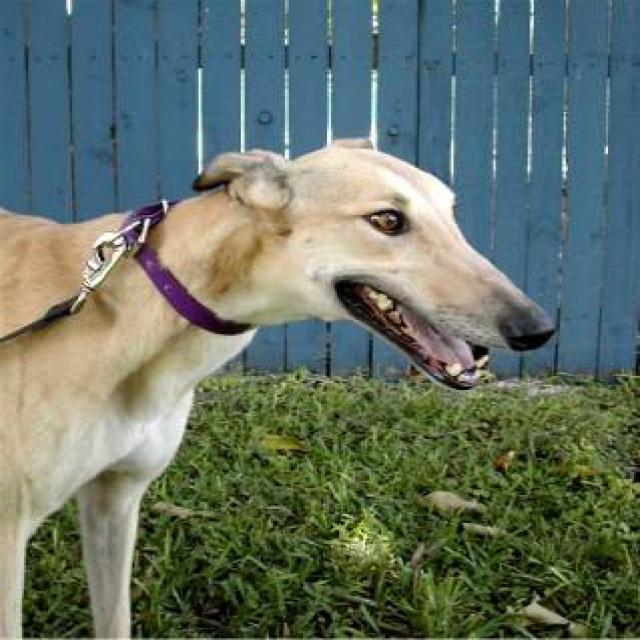dog: (0, 135, 558, 638)
